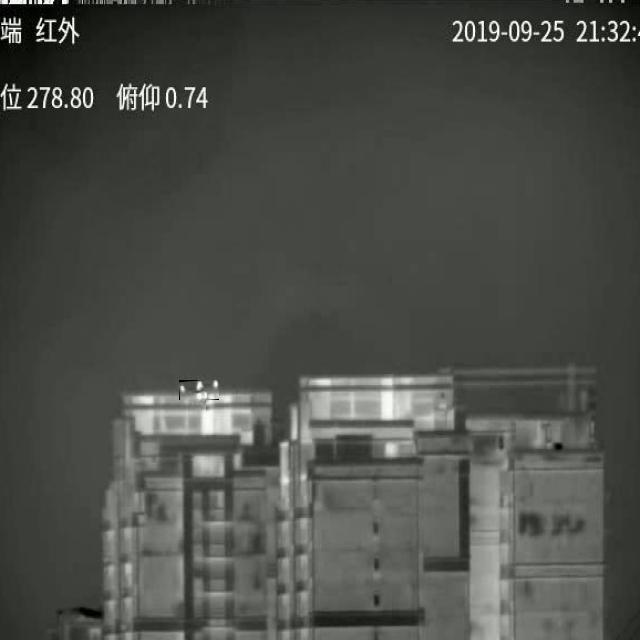drone: (180, 380, 219, 400)
